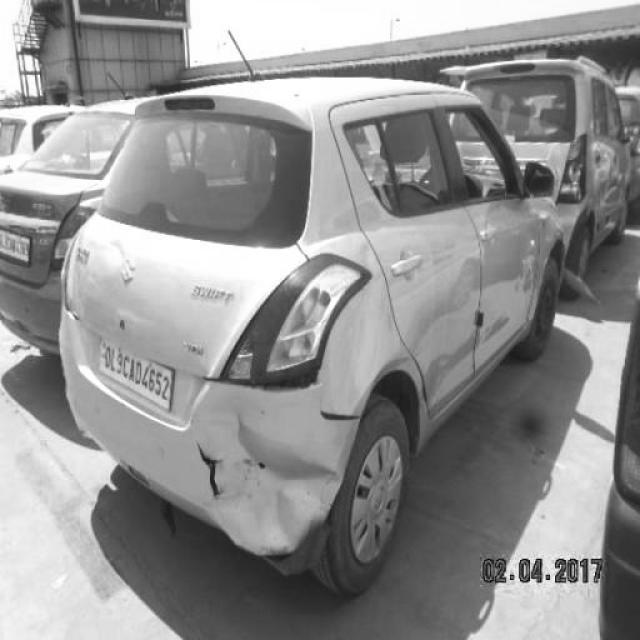car damage: (197, 413, 339, 555), (206, 363, 363, 428), (100, 235, 126, 274)
